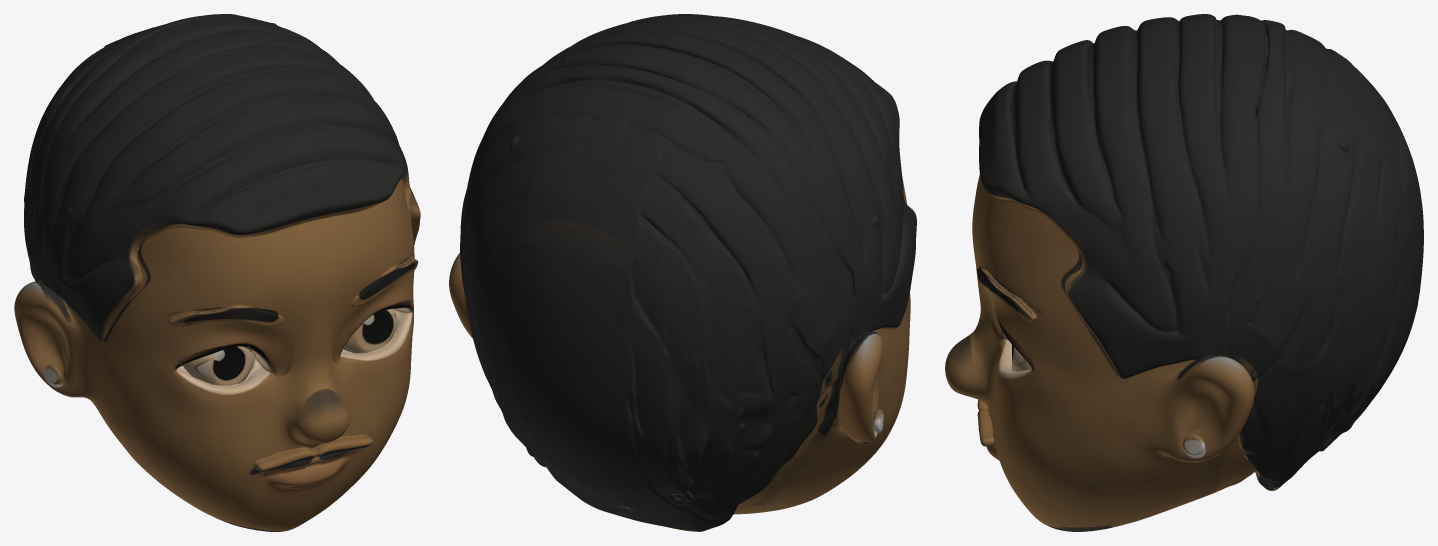
Rendered from alpha-face-avatar.glb.
3 views of the same model, side by side, from view 1: azimuth 30°, elevation 25°; view 2: azimuth 150°, elevation 25°; view 3: azimuth 270°, elevation 25° (orthographic). The views are drawn at different scales.
Parts seen in each view (by area): view 1: tripo_node_14955e26-95af-454c-9bb4-180b2e41fbf3; view 2: tripo_node_14955e26-95af-454c-9bb4-180b2e41fbf3; view 3: tripo_node_14955e26-95af-454c-9bb4-180b2e41fbf3.
Boxes of the visible parts, left/top/right/bottom form: tripo_node_14955e26-95af-454c-9bb4-180b2e41fbf3: left=14, top=14, right=420, bottom=531; tripo_node_14955e26-95af-454c-9bb4-180b2e41fbf3: left=449, top=14, right=916, bottom=531; tripo_node_14955e26-95af-454c-9bb4-180b2e41fbf3: left=945, top=14, right=1423, bottom=531.
Size of the model in its own units: 0.8624 by 1 by 0.8883.
1 material, 1 textured.
